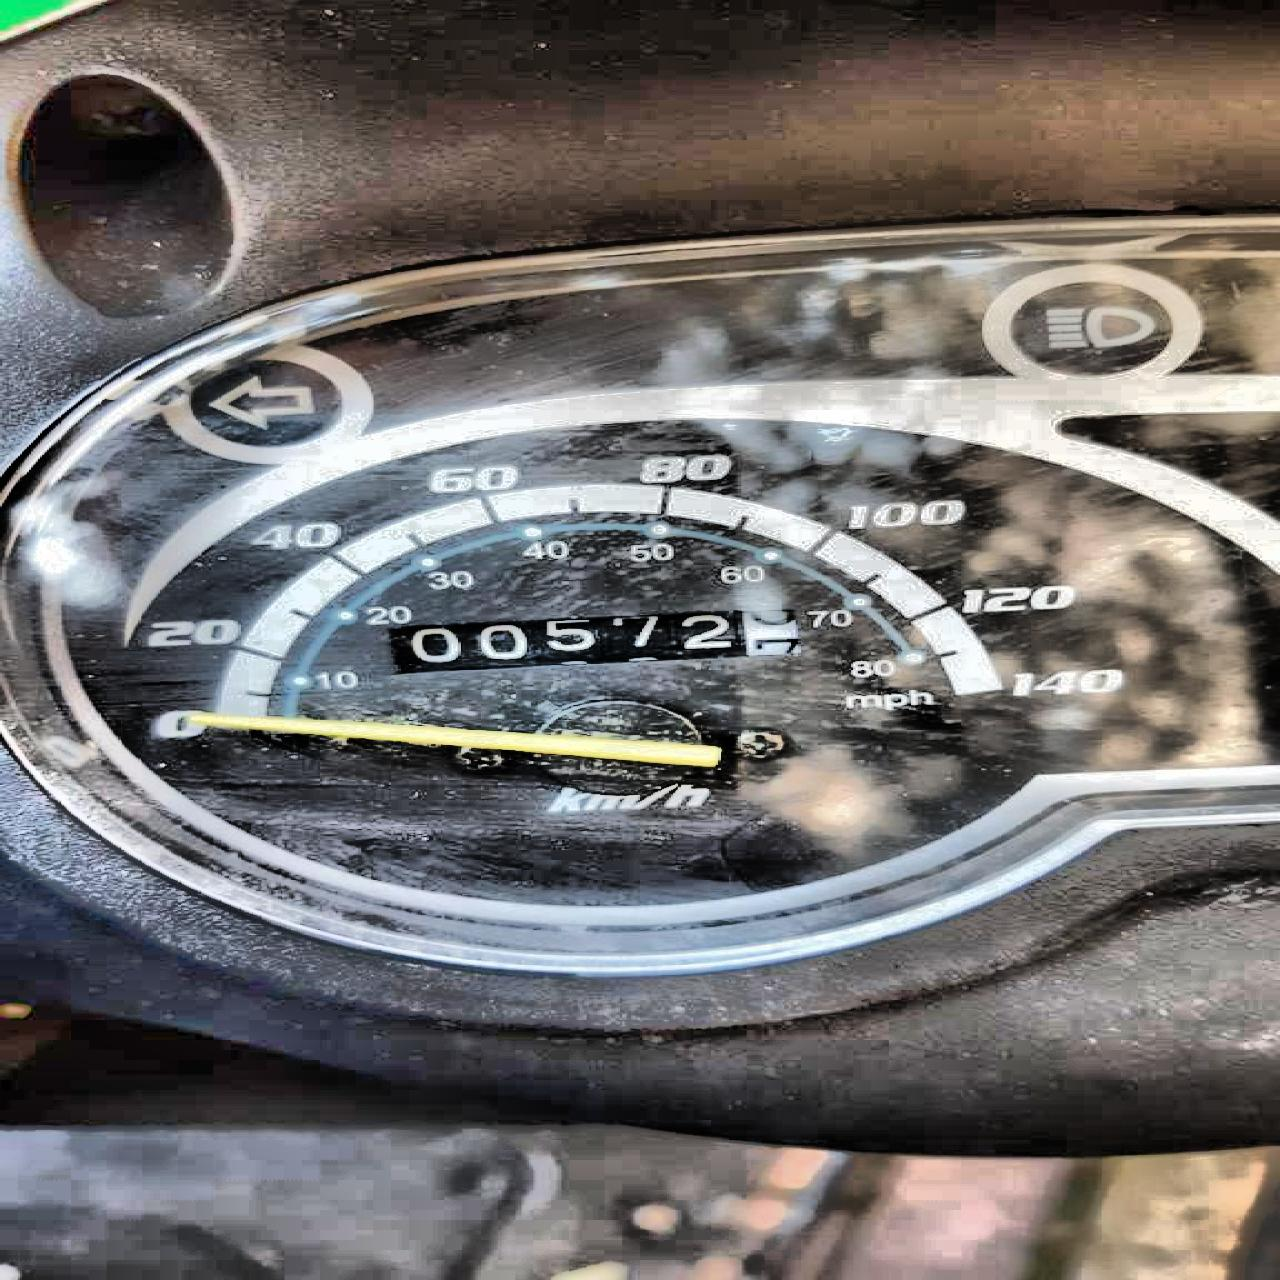0: (474, 621, 526, 660), (407, 626, 461, 662), (387, 605, 411, 622)
2: (675, 611, 734, 648)
5: (543, 618, 595, 652)
7: (606, 613, 665, 647), (747, 635, 797, 655)
odometer: (380, 605, 804, 674)
